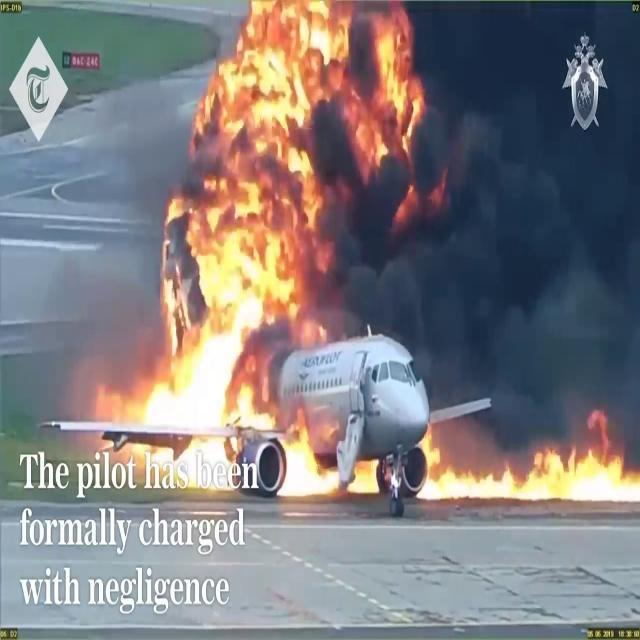Fire: (97, 0, 430, 407), (128, 1, 434, 318), (416, 432, 640, 508)
Smoke: (99, 2, 638, 450)
